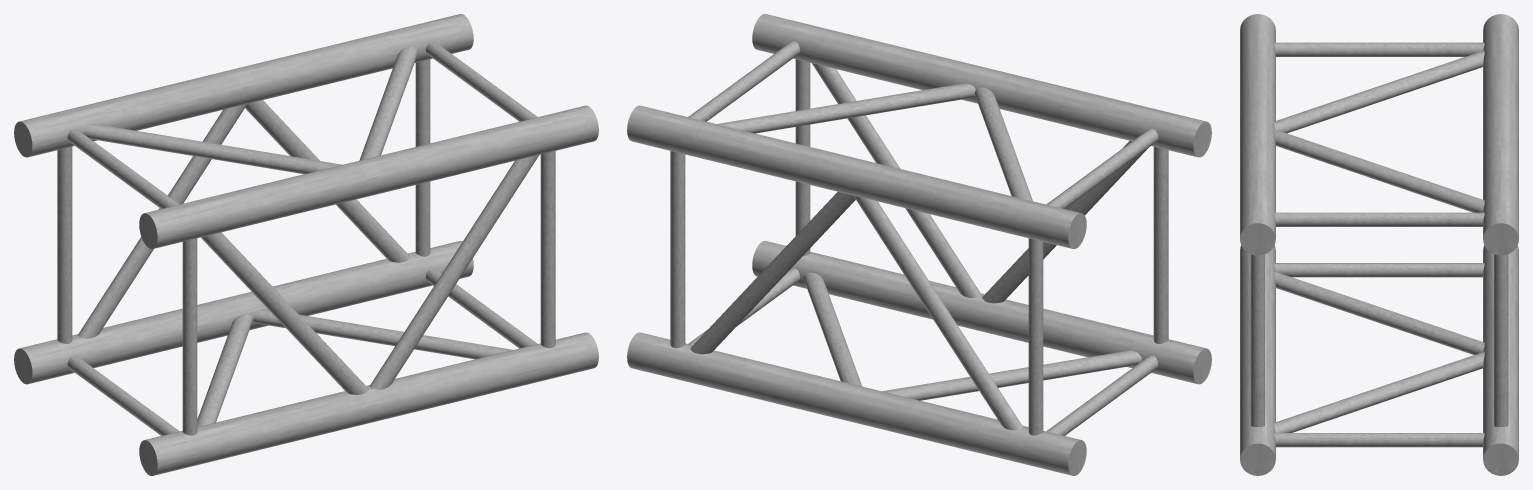
File: Milos_M390L_69cm_section-fadf82e2.glb
The picture shows the model from 3 angles, left to right: view 1: azimuth 30°, elevation 25°; view 2: azimuth 150°, elevation 25°; view 3: azimuth 270°, elevation 25°; orthographic projection. The views are drawn at different scales.
Parts seen in each view (by area): view 1: Geom3D (×20); view 2: Geom3D (×20); view 3: Geom3D (×14).
Boxes of the visible parts, x1,y1,x2,y2 form: Geom3D (×20): [14, 14, 598, 475]; Geom3D (×20): [627, 14, 1211, 475]; Geom3D (×14): [1240, 14, 1518, 475].
Bounding box in the file's own units: 0.69 × 0.389 × 0.389.
Materials: 1 (1 with a texture image).
